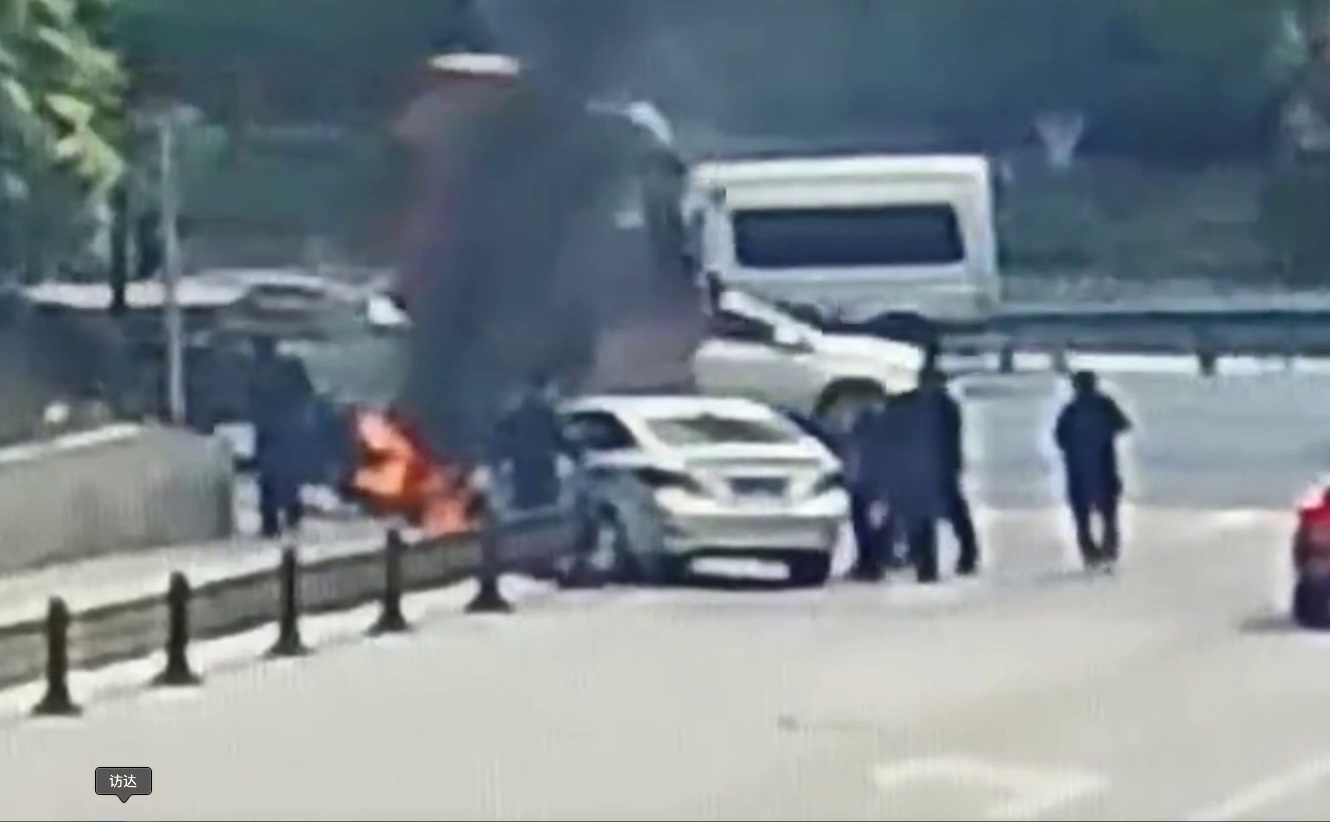smoke: (337, 83, 561, 500)
